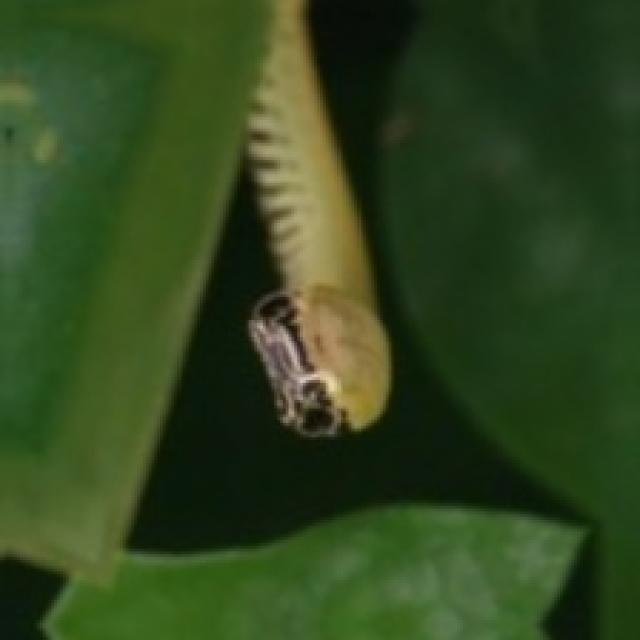paradise tree snake: (246, 0, 389, 434)
